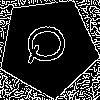Q: (23, 21, 76, 66)
